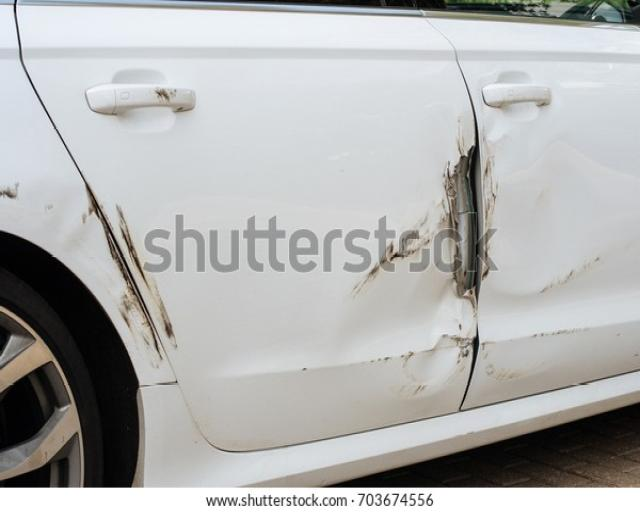scratch: (335, 116, 511, 402), (75, 168, 187, 386), (141, 76, 189, 111)
